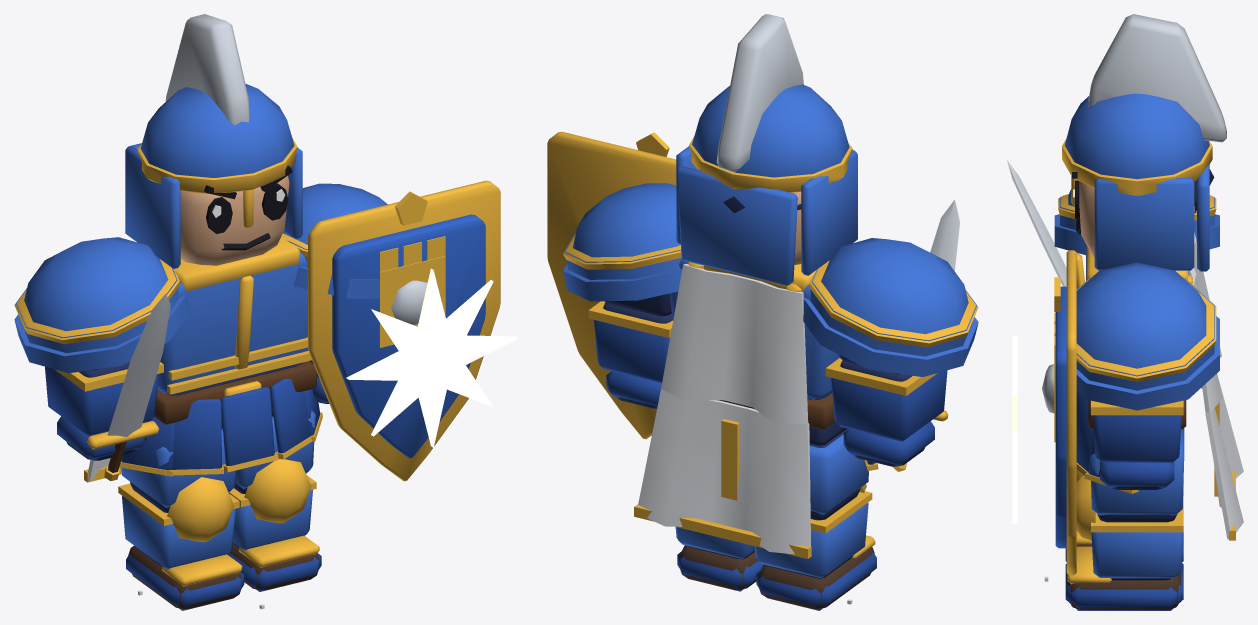
Rendered from ShieldKnight.fbx.
The picture shows the model from 3 angles, left to right: view 1: azimuth 30°, elevation 25°; view 2: azimuth 150°, elevation 25°; view 3: azimuth 270°, elevation 25°; orthographic projection. The views are drawn at different scales.
Visible parts, largest first — view 1: ShieldKnight_Shield_Gold, ShieldKnight_Helmet_Plate, ShieldKnight_RightUpperArm_Plate, ShieldKnight_Shield_ShieldBlue, ShieldKnight_Flash_Glow, ShieldKnight_LowerTorso_PlateDark, ShieldKnight_UpperTorso_Plate, ShieldKnight_UpperTorso_Gold, ShieldKnight_Helmet_Silver, ShieldKnight_Head_Skin, ShieldKnight_RightLowerLeg_Gold, ShieldKnight_Sword_Steel (+22 smaller); view 2: ShieldKnight_Helmet_Plate, ShieldKnight_CapeLow_Cape, ShieldKnight_Cape_Cape, ShieldKnight_RightUpperArm_Plate, ShieldKnight_Shield_Gold, ShieldKnight_LeftUpperArm_Plate, ShieldKnight_Helmet_Silver, ShieldKnight_RightLowerArm_PlateDark, ShieldKnight_RightLowerLeg_Plate, ShieldKnight_LeftLowerArm_PlateDark, ShieldKnight_RightUpperLeg_Plate, ShieldKnight_CapeLow_Gold (+18 smaller); view 3: ShieldKnight_Helmet_Plate, ShieldKnight_LeftUpperArm_Plate, ShieldKnight_Helmet_Silver, ShieldKnight_LeftLowerLeg_Plate, ShieldKnight_LeftLowerArm_PlateDark, ShieldKnight_Shield_Gold, ShieldKnight_LeftUpperLeg_Plate, ShieldKnight_Shield_ShieldBlue, ShieldKnight_CapeLow_Cape, ShieldKnight_LeftUpperArm_Gold, ShieldKnight_LeftFoot_PlateDark, ShieldKnight_LeftLowerLeg_Gold (+15 smaller).
Part boxes in pixels (box(x1,y1,x2,y2)): ShieldKnight_Shield_Gold: box(308, 180, 500, 481); ShieldKnight_Helmet_Plate: box(125, 83, 302, 268); ShieldKnight_RightUpperArm_Plate: box(14, 237, 190, 373); ShieldKnight_Shield_ShieldBlue: box(332, 214, 485, 458); ShieldKnight_Flash_Glow: box(346, 268, 518, 447); ShieldKnight_LowerTorso_PlateDark: box(121, 378, 320, 470); ShieldKnight_UpperTorso_Plate: box(157, 252, 308, 394); ShieldKnight_UpperTorso_Gold: box(167, 236, 311, 394); ShieldKnight_Helmet_Silver: box(165, 14, 249, 125); ShieldKnight_Head_Skin: box(180, 175, 289, 265); ShieldKnight_RightLowerLeg_Gold: box(118, 477, 239, 542); ShieldKnight_Sword_Steel: box(107, 293, 170, 436); ShieldKnight_Helmet_Plate: box(676, 84, 857, 285); ShieldKnight_CapeLow_Cape: box(638, 389, 810, 554); ShieldKnight_Cape_Cape: box(661, 263, 808, 424); ShieldKnight_RightUpperArm_Plate: box(803, 238, 978, 376); ShieldKnight_Shield_Gold: box(547, 131, 676, 439); ShieldKnight_LeftUpperArm_Plate: box(563, 183, 682, 301); ShieldKnight_Helmet_Silver: box(716, 14, 803, 172); ShieldKnight_RightLowerArm_PlateDark: box(831, 370, 947, 441); ShieldKnight_RightLowerLeg_Plate: box(754, 503, 868, 578); ShieldKnight_LeftLowerArm_PlateDark: box(594, 320, 669, 382); ShieldKnight_RightUpperLeg_Plate: box(809, 434, 868, 514); ShieldKnight_CapeLow_Gold: box(634, 419, 811, 558); ShieldKnight_Helmet_Plate: box(1064, 93, 1209, 271); ShieldKnight_LeftUpperArm_Plate: box(1076, 262, 1219, 410); ShieldKnight_Helmet_Silver: box(1088, 14, 1226, 142); ShieldKnight_LeftLowerLeg_Plate: box(1091, 532, 1183, 578); ShieldKnight_LeftLowerArm_PlateDark: box(1092, 415, 1181, 462); ShieldKnight_Shield_Gold: box(1054, 250, 1076, 575); ShieldKnight_LeftUpperLeg_Plate: box(1090, 428, 1184, 515); ShieldKnight_Shield_ShieldBlue: box(1055, 286, 1066, 548); ShieldKnight_CapeLow_Cape: box(1205, 373, 1243, 539); ShieldKnight_LeftUpperArm_Gold: box(1076, 279, 1216, 382); ShieldKnight_LeftFoot_PlateDark: box(1065, 563, 1183, 610); ShieldKnight_LeftLowerLeg_Gold: box(1076, 475, 1183, 540).
Size of the model in its own units: 5.73 by 6.86 by 2.61.
